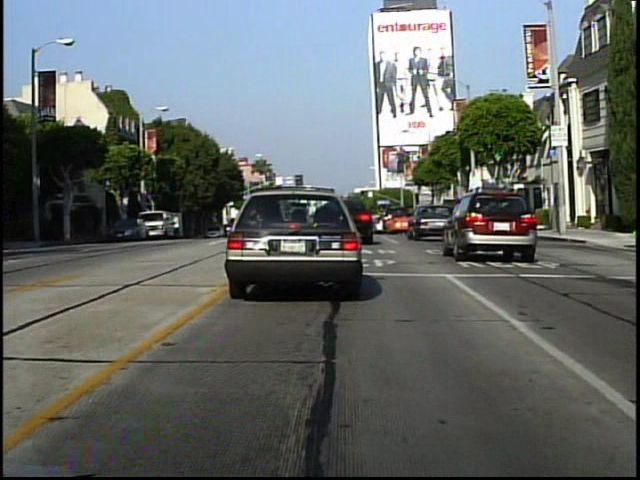person: (172, 210, 183, 241)
